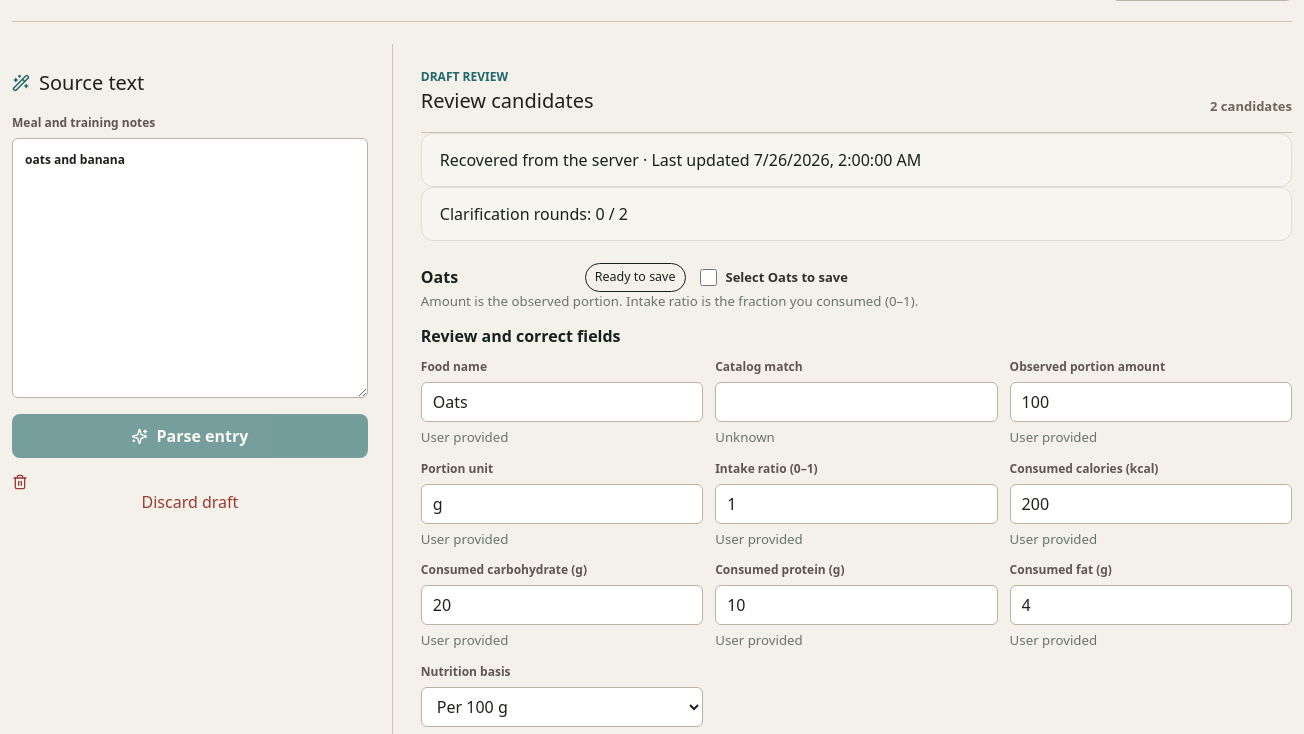
Test: interactive smart entry with the real draft hook › restores using GET only, and saves just one selected item while another remains editable
This screenshot has width=1304, height=734.
Expected: the text "Recovered from the server · Last updated 7/26/2026, 2:00:00 AM" is shown, top-left (421, 133), bottom-right (1292, 187)
Click the checkbox labelled "Select Oats to save".
click(708, 277)  # box top-left (700, 269), bottom-right (716, 286)
(page scrolled)
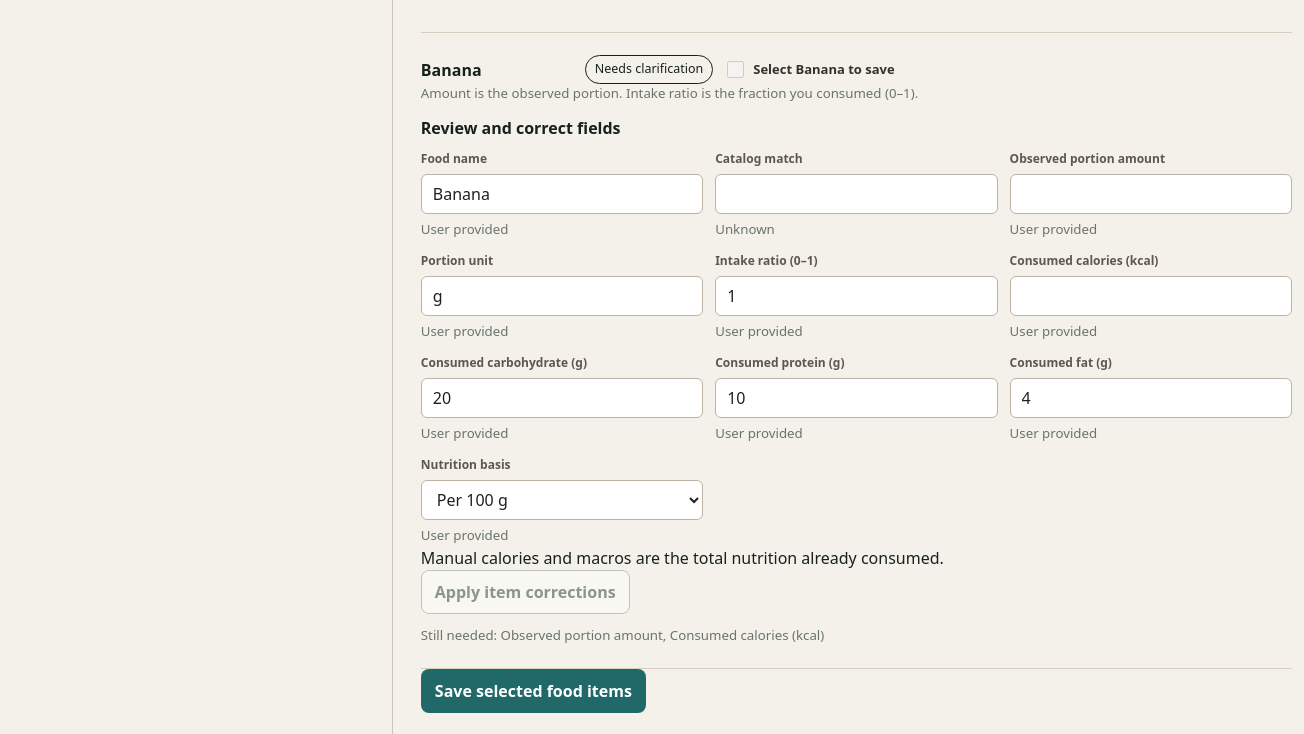
Click the button "Save selected food items".
click(533, 691)  # box top-left (421, 669), bottom-right (646, 713)
(page scrolled)
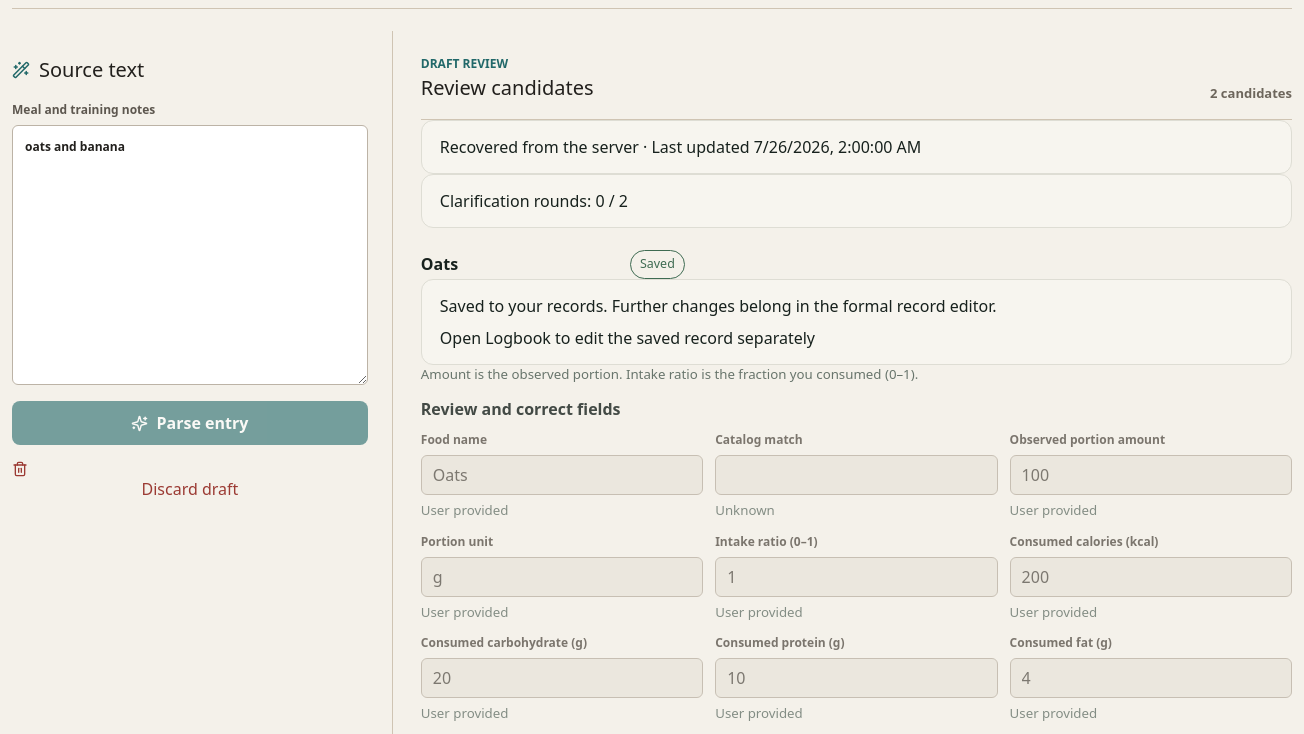
Expected: the number field labelled "Observed portion amount" is disabled, top-left (1010, 455), bottom-right (1292, 495)
Expected: the text "Saved" is shown, top-left (630, 250), bottom-right (685, 279)
Expected: the link "Open Logbook to edit the saved record separately" is shown, top-left (440, 327), bottom-right (815, 349)
